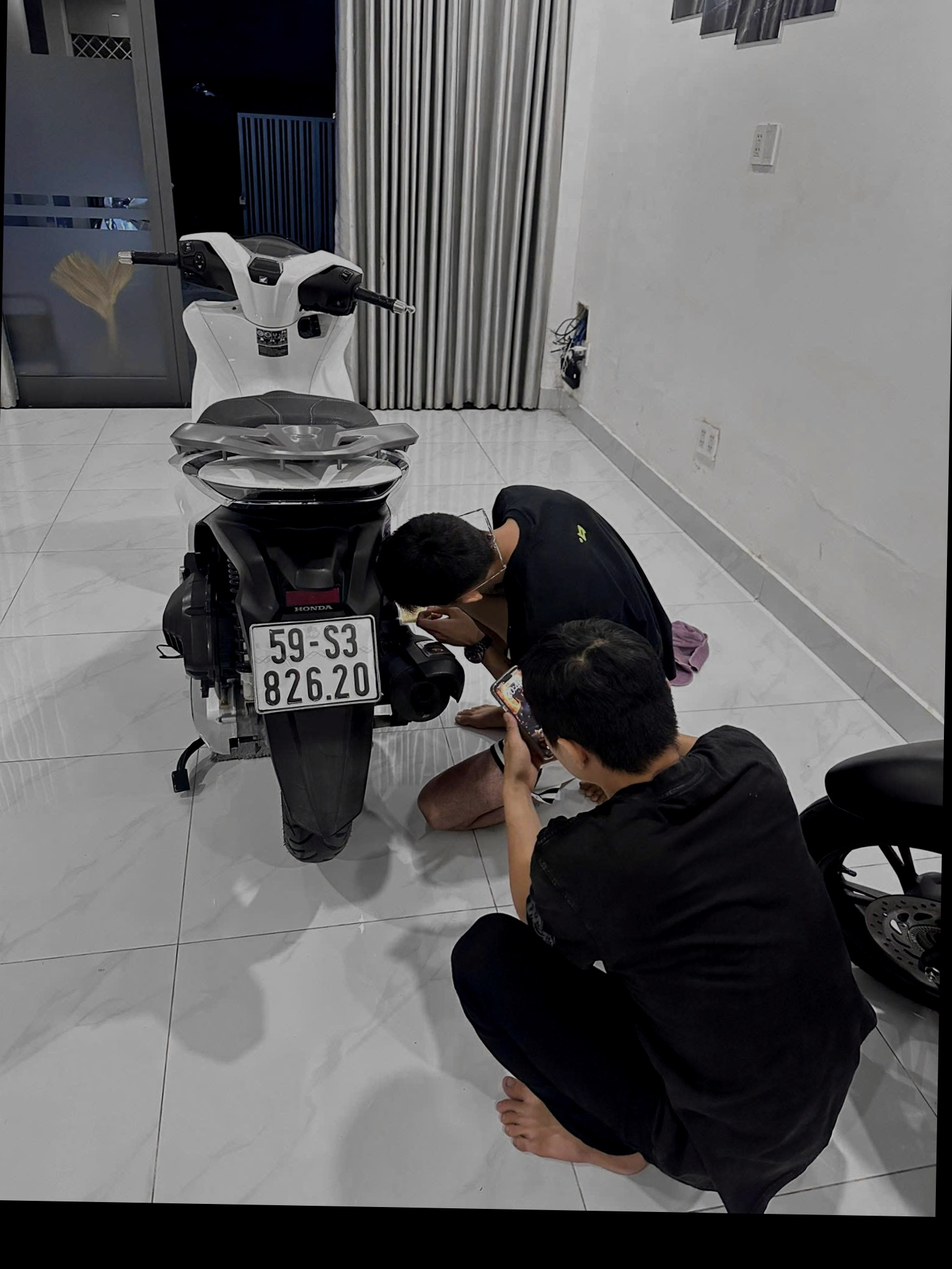Bien-so: (255, 644, 395, 750)
